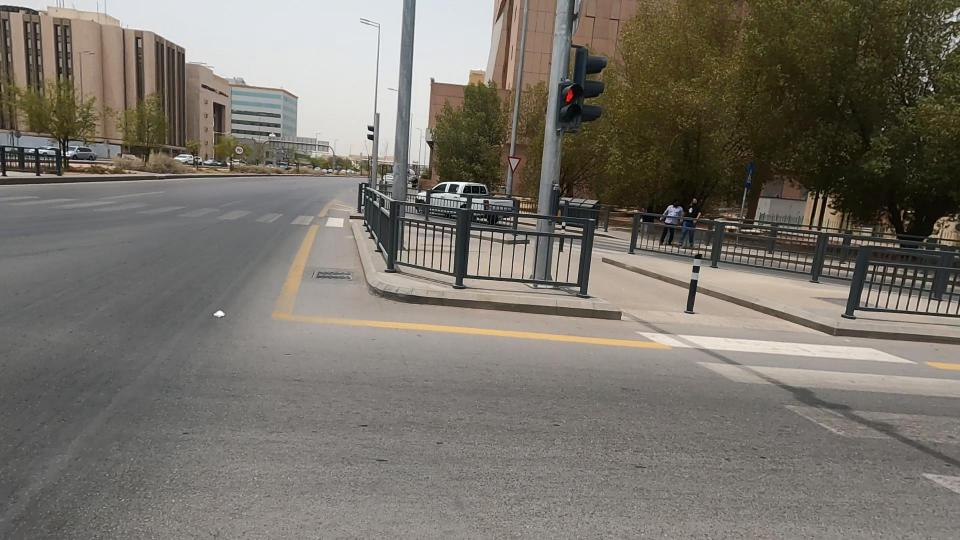GARBAGE: (184, 294, 256, 335)
